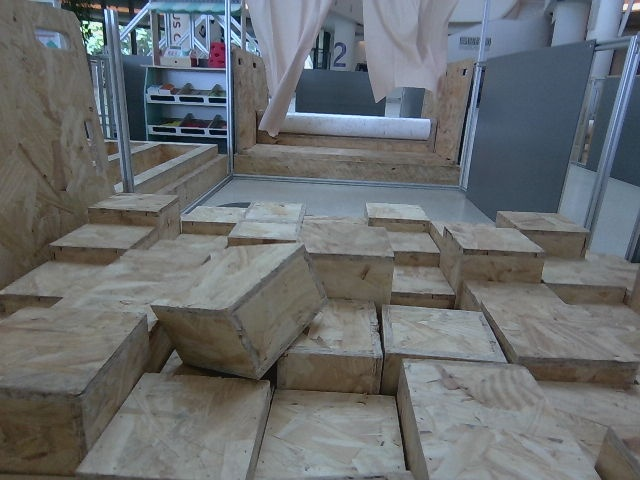curtain: (243, 0, 474, 134)
